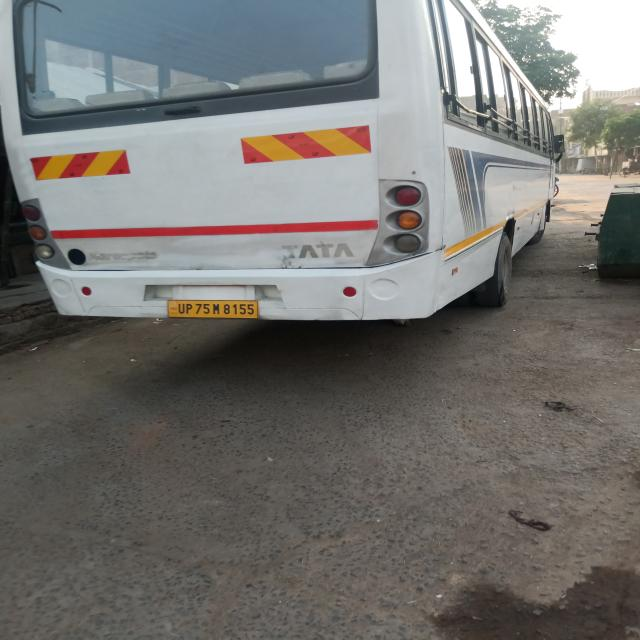Bus: (0, 0, 603, 342)
